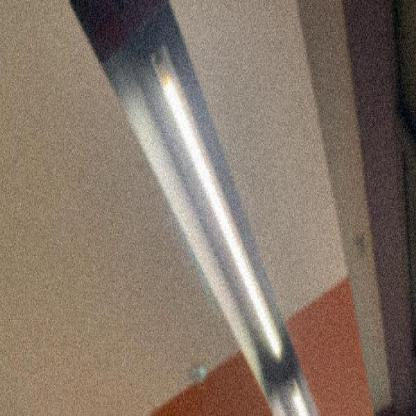light_on: (140, 27, 288, 365), (281, 379, 327, 415)
